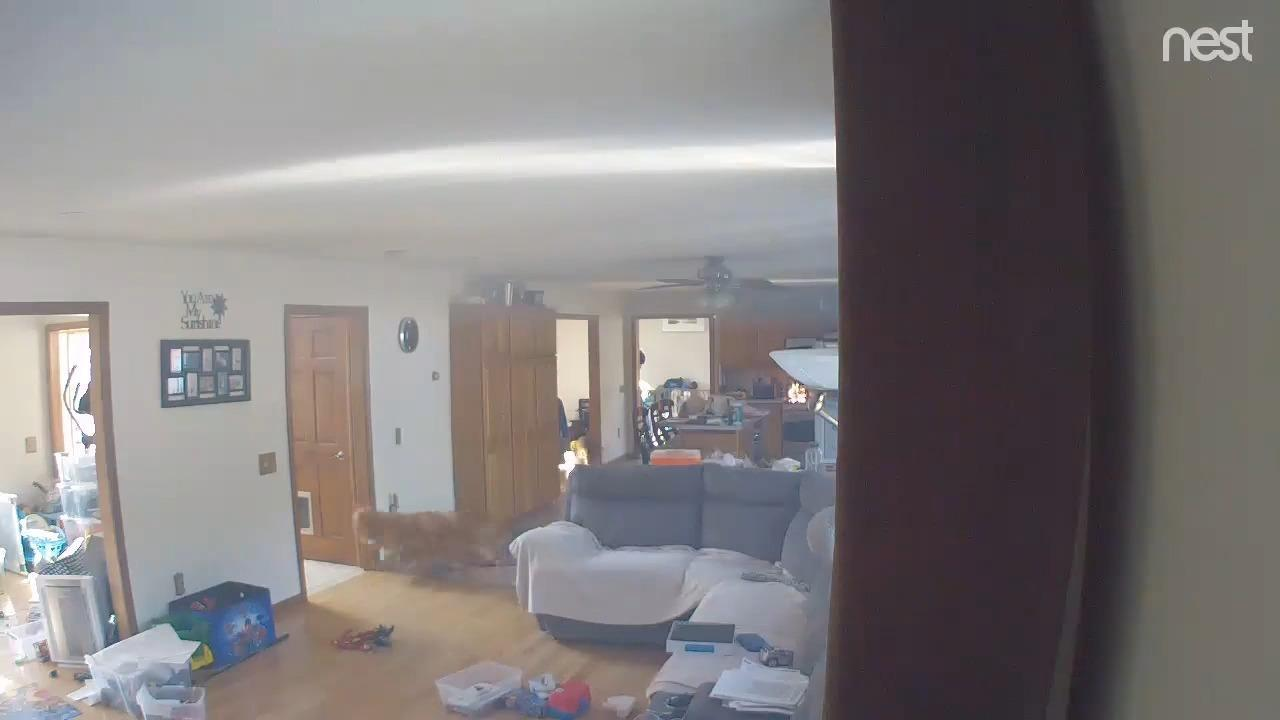fire: (788, 381, 807, 403)
